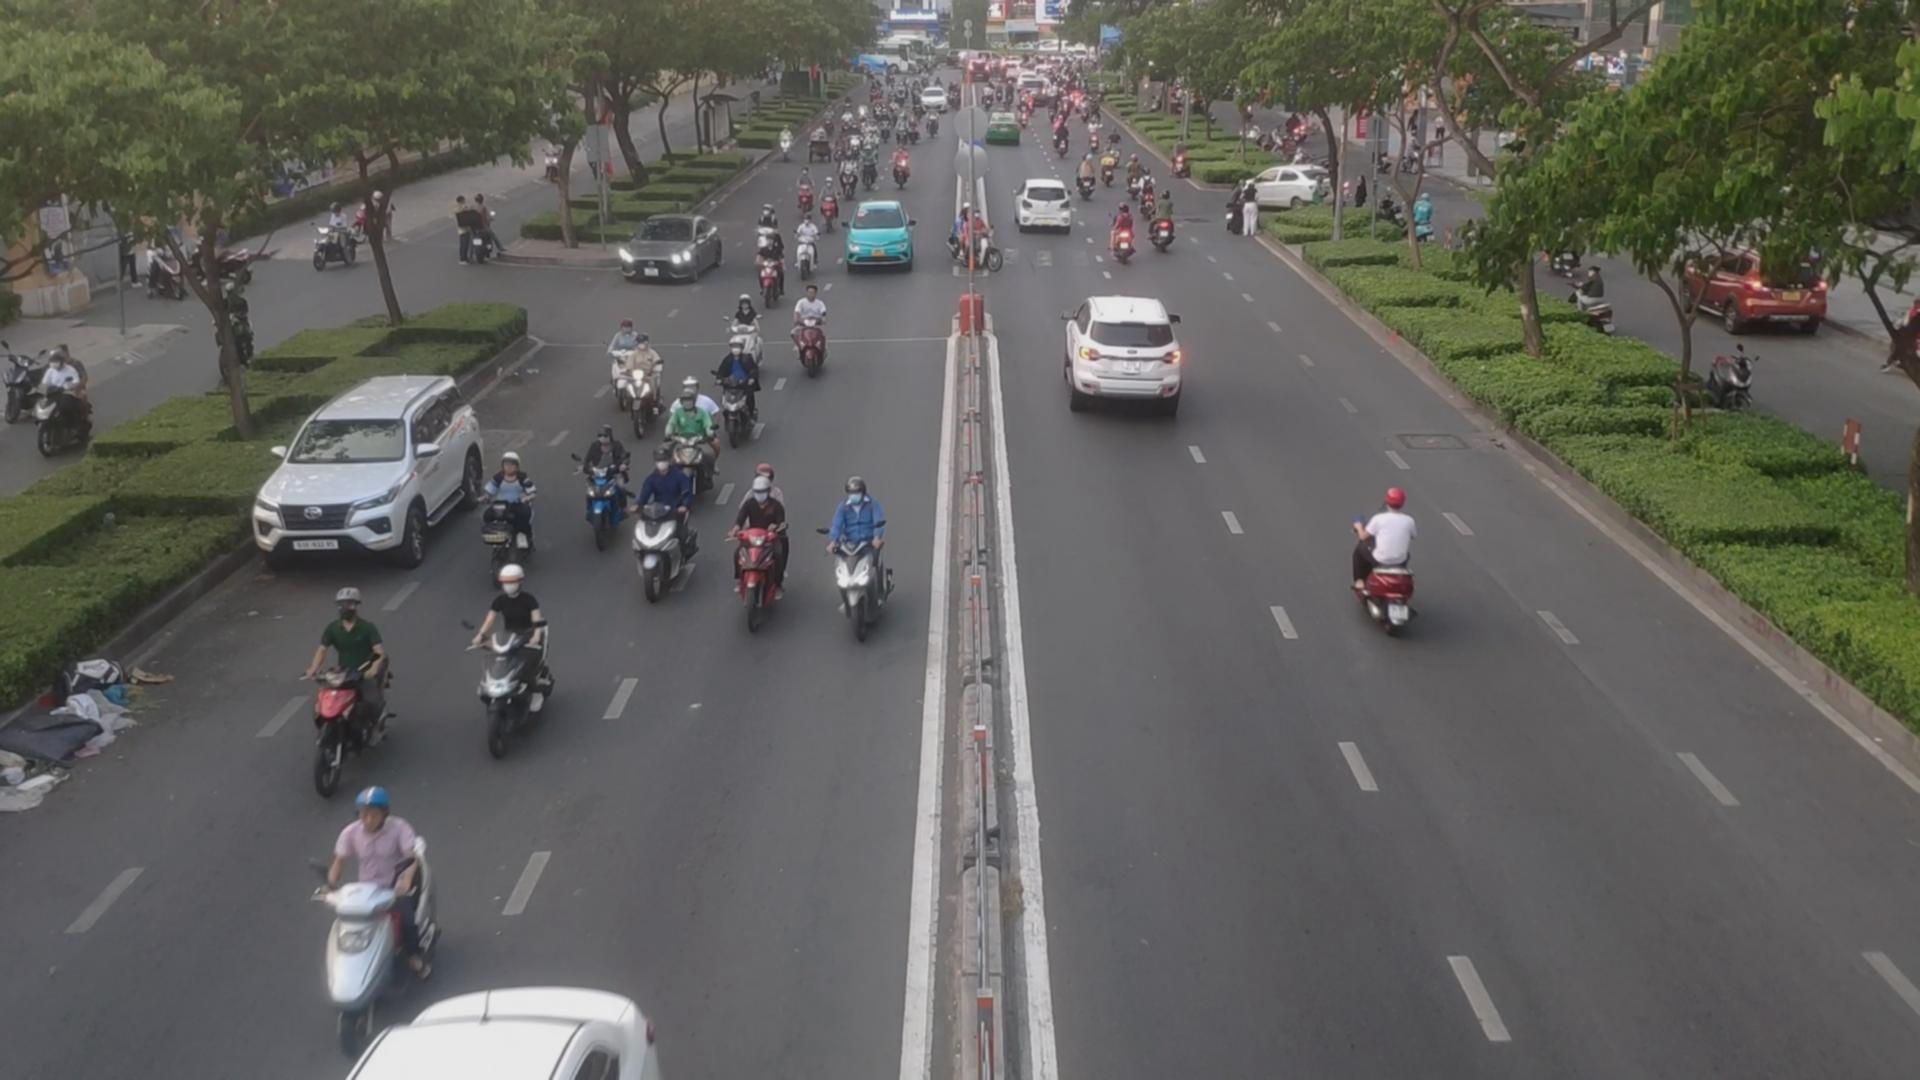car: (256, 368, 496, 568), (323, 967, 673, 1080), (1064, 301, 1185, 407), (615, 218, 724, 286), (843, 198, 913, 272), (1015, 181, 1075, 235)
motorbike: (303, 582, 407, 758), (336, 853, 448, 990), (471, 582, 568, 727), (1352, 473, 1422, 644), (848, 463, 899, 644), (481, 463, 549, 576), (636, 502, 709, 596), (574, 411, 621, 541), (661, 372, 720, 475), (636, 327, 676, 433), (800, 284, 845, 363), (717, 349, 754, 436), (952, 208, 1002, 268), (723, 298, 767, 364), (601, 313, 632, 393), (756, 231, 789, 305), (1105, 210, 1130, 258), (1068, 160, 1096, 200), (756, 200, 778, 249), (1156, 204, 1174, 266), (793, 225, 815, 272), (837, 157, 862, 198), (889, 156, 913, 193), (793, 174, 810, 218), (1131, 156, 1149, 199), (822, 185, 839, 225), (1141, 173, 1158, 212)
